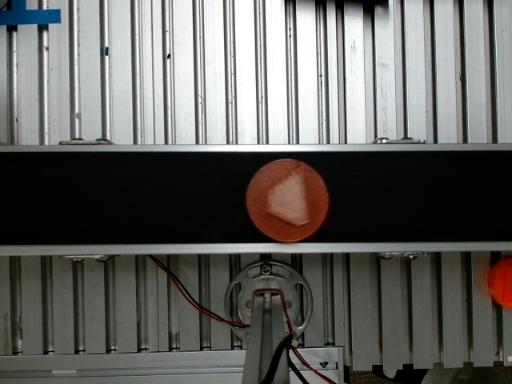Brown_Waper: (246, 158, 329, 240)
Not_Square: (267, 166, 311, 227)
